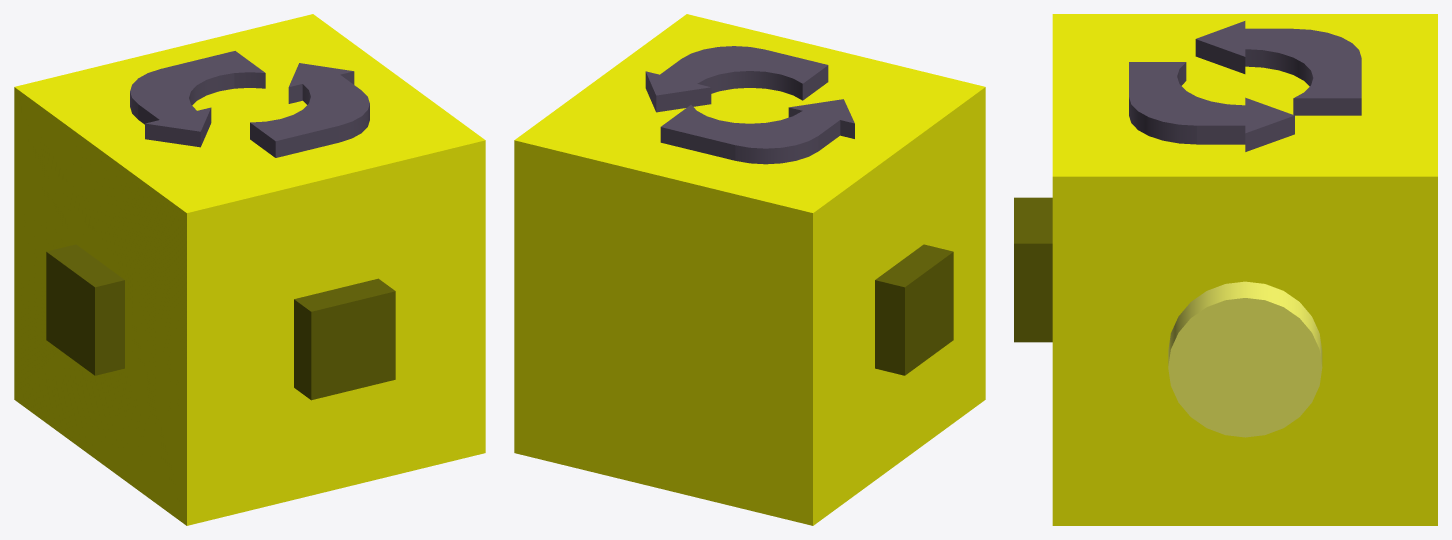
File: Pulse.dae
3 views of the same model, side by side, from view 1: azimuth 30°, elevation 25°; view 2: azimuth 150°, elevation 25°; view 3: azimuth 270°, elevation 25° (orthographic). The views are drawn at different scales.
Visible parts, largest first — view 1: SketchUp (×5); view 2: SketchUp (×4); view 3: SketchUp (×5).
Part boxes in pixels (x1,y1,x2,y2): SketchUp (×5): (14,14,485,525); SketchUp (×4): (514,14,985,525); SketchUp (×5): (1014,14,1437,525).
Bounding box in the file's own units: 47.24 × 43.31 × 41.5.
